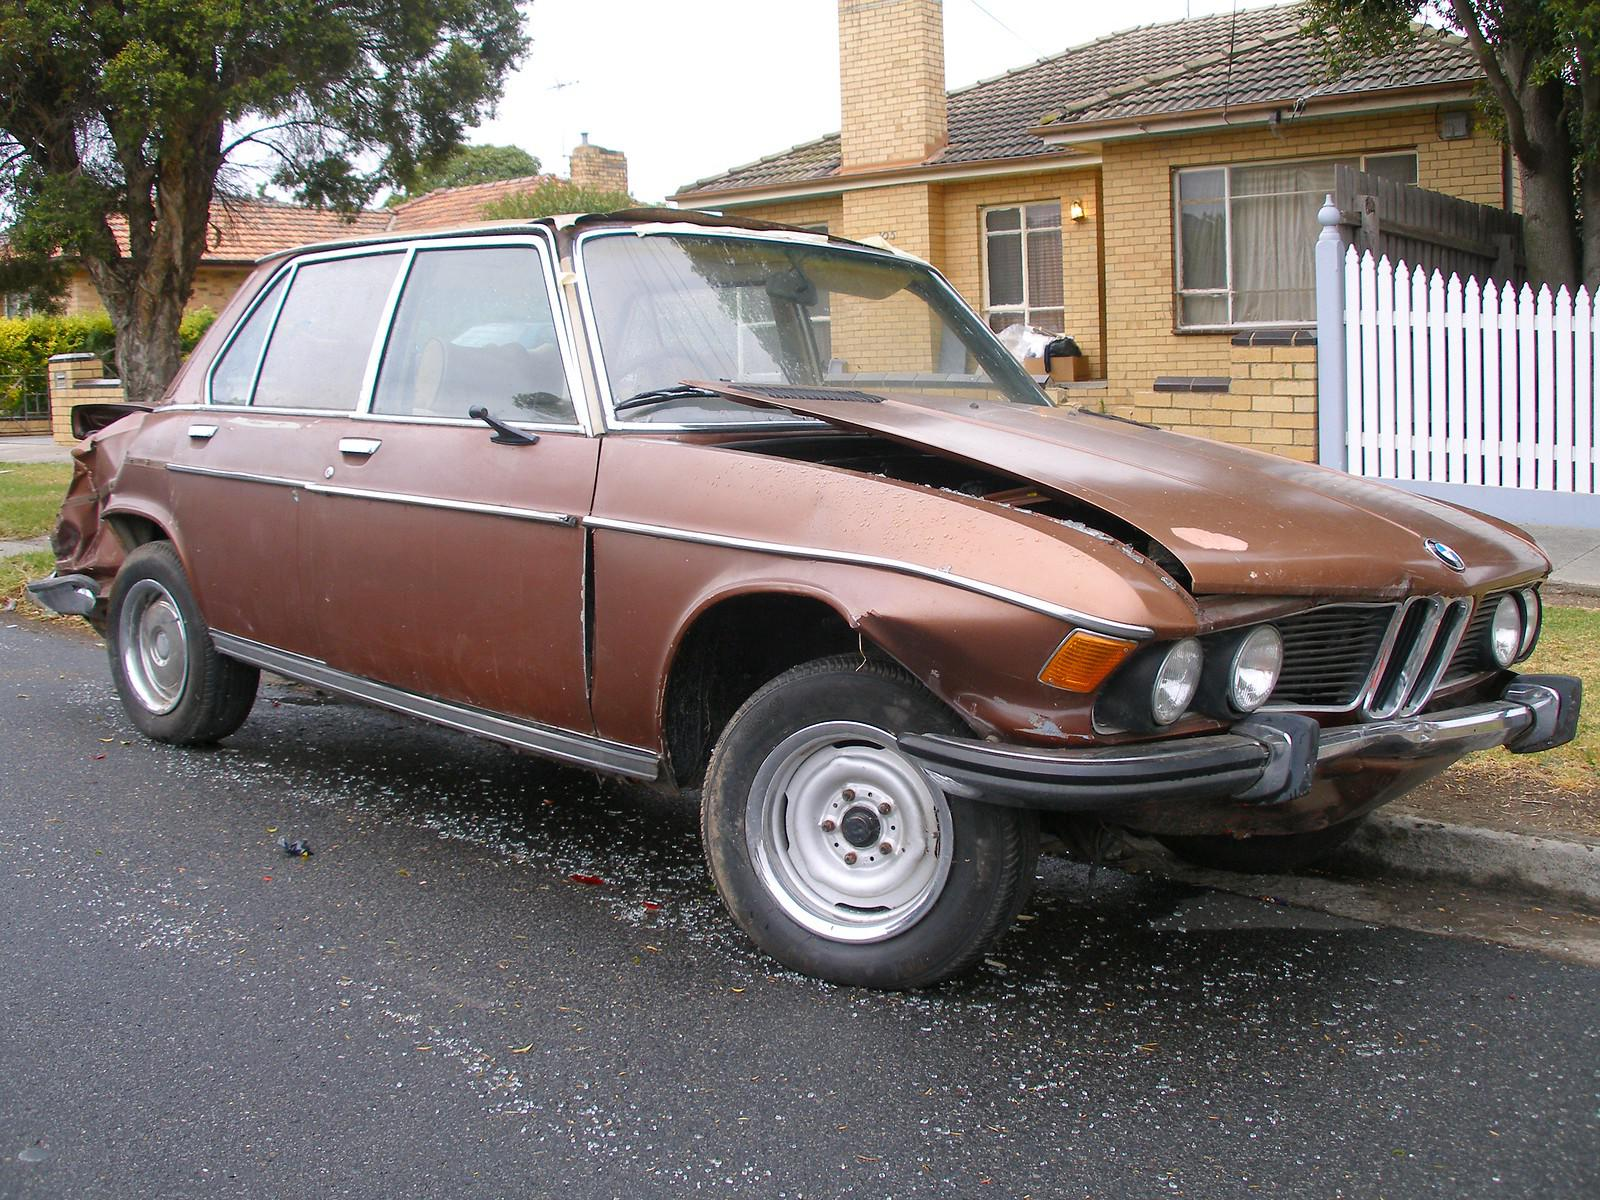bonnet-dent: (698, 353, 1313, 563)
fender-dent: (805, 574, 1136, 759)
